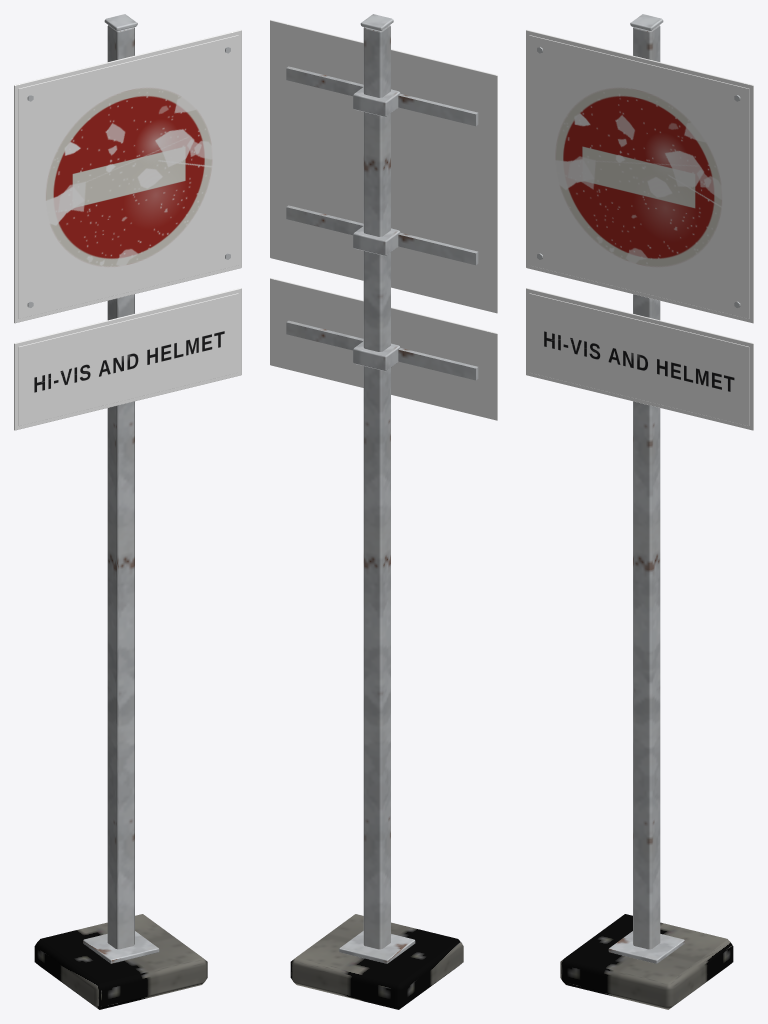
File: sign_post.glb
3 renders of one model, left to right at view 1: azimuth 30°, elevation 25°; view 2: azimuth 150°, elevation 25°; view 3: azimuth 330°, elevation 25°, orthographic.
Visible parts, largest first — view 1: sign_post; view 2: sign_post; view 3: sign_post.
Part boxes in pixels (box(x1,y1,x2,y2)): sign_post: box(14, 14, 241, 1009); sign_post: box(270, 14, 497, 1009); sign_post: box(526, 14, 753, 1009).
Bounding box in the file's own units: 0.6 × 2.41 × 0.3.
6 materials, 6 textured.
